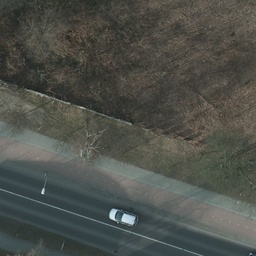car: (109, 208, 139, 227)
